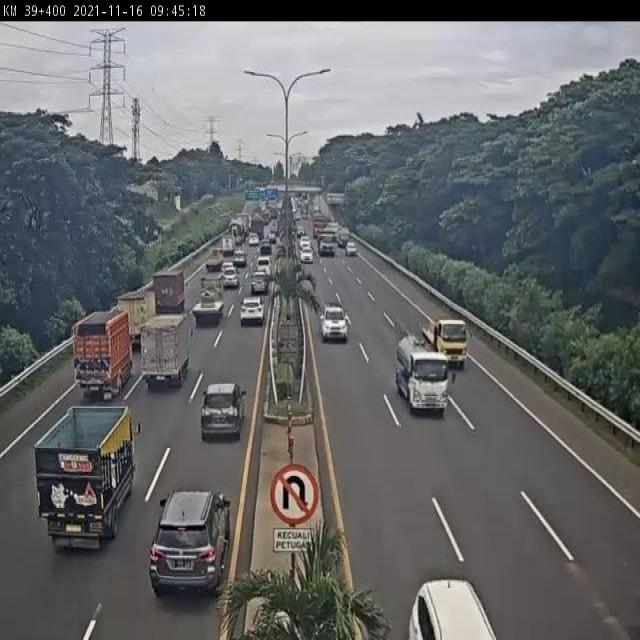Car: (148, 486, 235, 603), (405, 577, 498, 640), (200, 380, 247, 439), (319, 302, 349, 342), (239, 296, 265, 326), (222, 268, 240, 288), (251, 275, 268, 295), (257, 256, 272, 277), (232, 248, 247, 266), (299, 246, 314, 264), (222, 261, 236, 277), (259, 242, 272, 258), (266, 231, 278, 246), (345, 241, 357, 256), (248, 233, 259, 247), (299, 235, 311, 247), (270, 222, 280, 234), (296, 226, 305, 238), (295, 215, 301, 222)
Truck: (34, 403, 134, 546), (72, 306, 134, 400), (394, 331, 452, 416), (140, 312, 193, 392), (420, 317, 472, 369), (116, 286, 156, 351), (192, 273, 226, 322), (152, 269, 186, 316), (316, 229, 336, 257), (229, 215, 247, 245), (204, 247, 226, 271), (312, 212, 330, 237), (251, 214, 267, 242), (336, 226, 352, 248), (221, 231, 234, 254)
